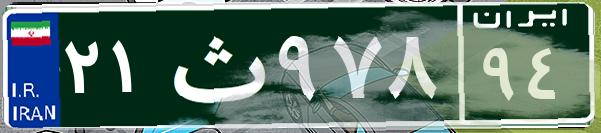1: (110, 28, 158, 105)
2: (57, 26, 110, 107)
4: (525, 38, 570, 115)
7: (330, 28, 385, 110)
8: (385, 28, 445, 110)
9: (273, 28, 330, 110), (475, 38, 525, 113)
ث: (158, 15, 273, 115)
